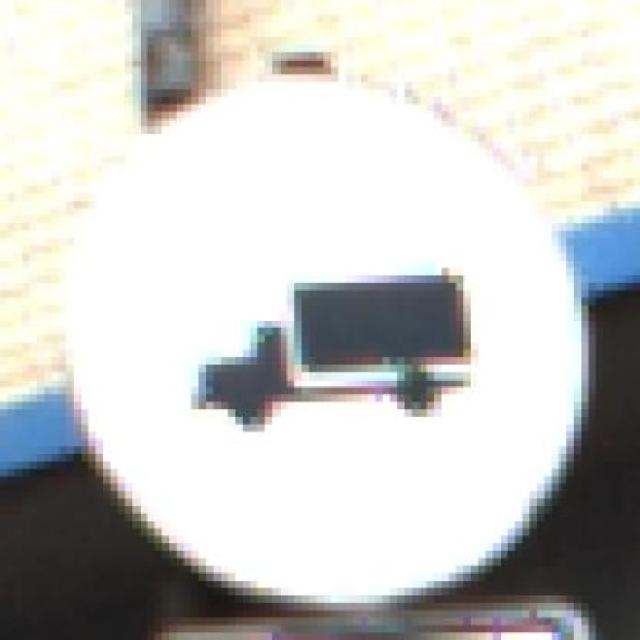Truck traffic is prohibited: (59, 37, 610, 611)
